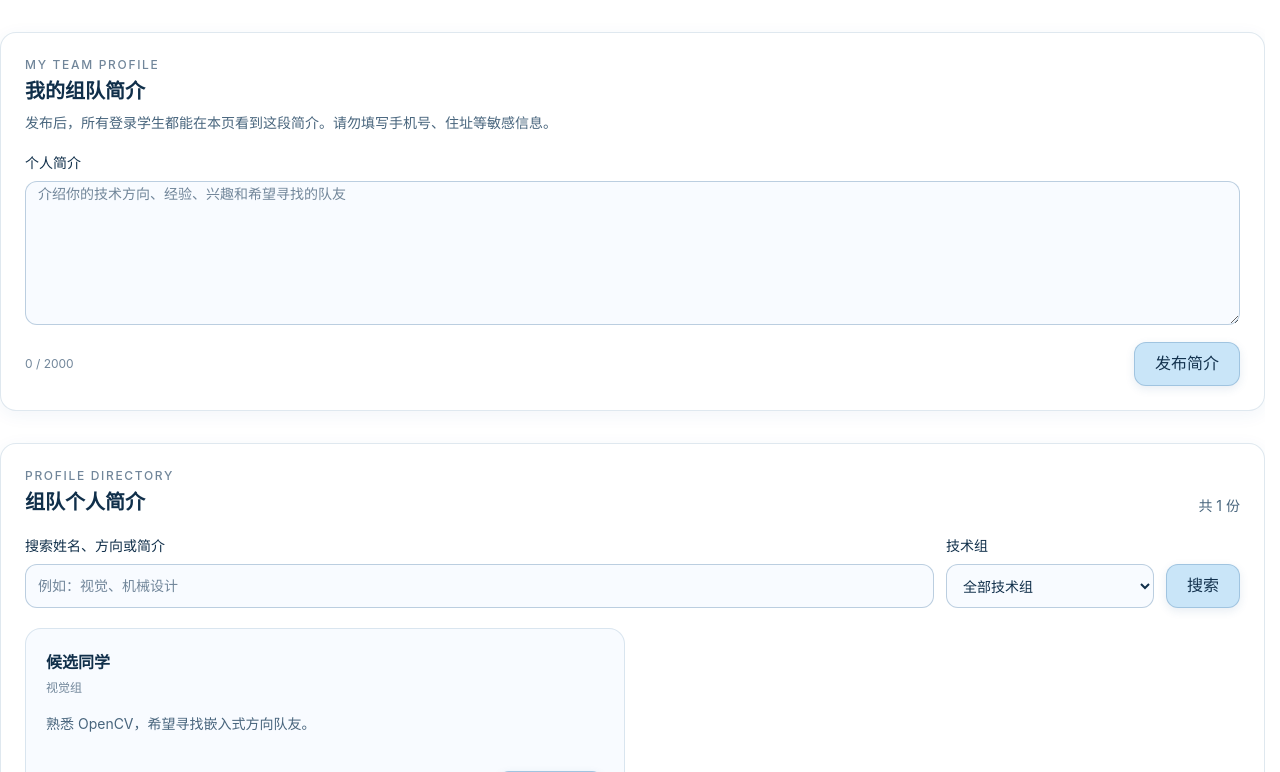
team profile invitations › publishes a voluntary profile without rendering HTML
Type "  我喜欢控制。  " into the text box labelled "个人简介".
click(632, 253); type("  我喜欢控制。  ")  # box x1=25 y1=181 x2=1240 y2=325
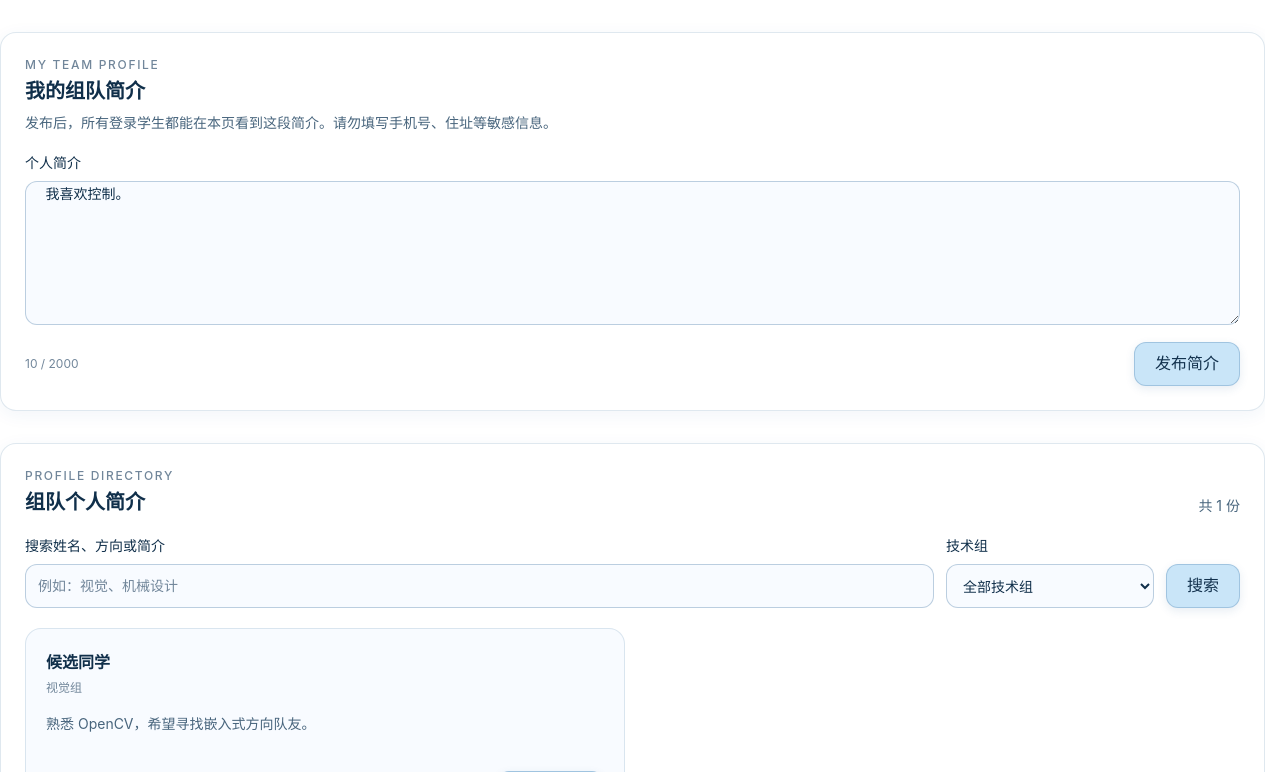
Click the button "发布简介".
click(1187, 364)  # box x1=1134 y1=342 x2=1240 y2=386
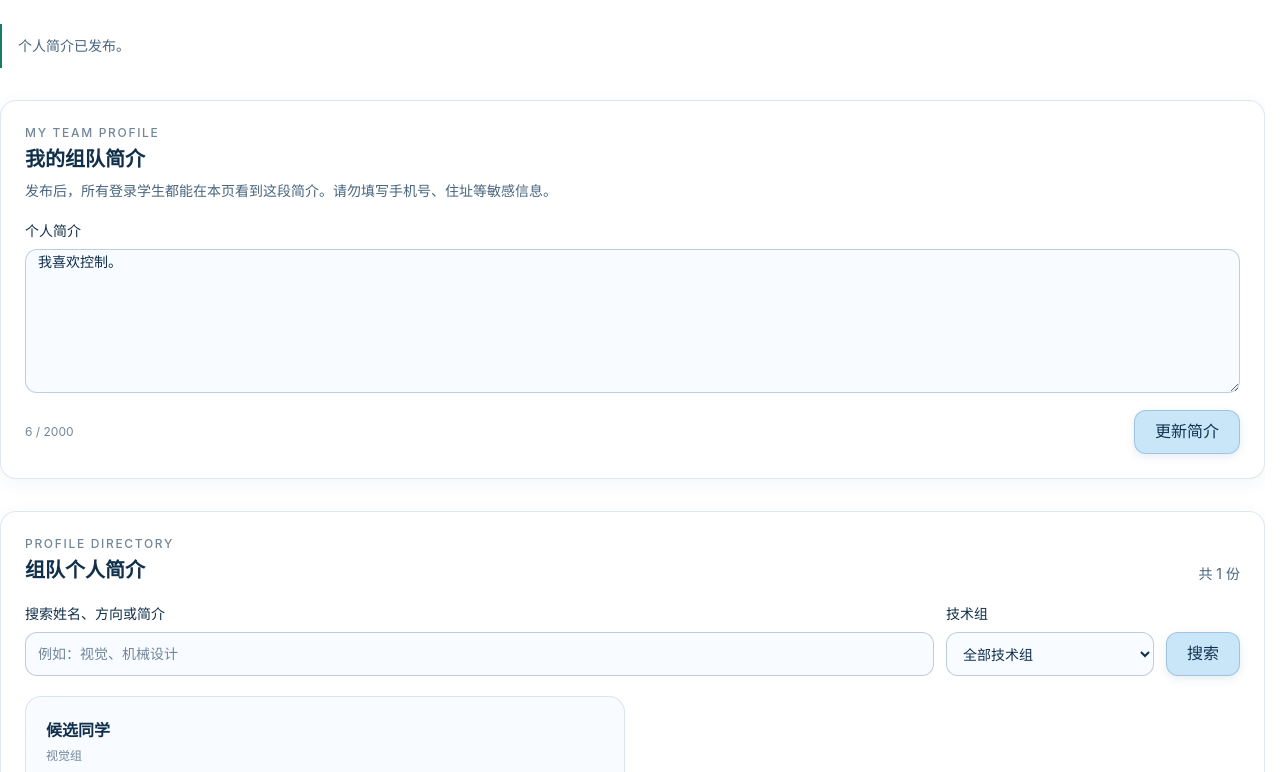
Now the text "个人简介已发布。" is shown, box x1=0 y1=24 x2=1265 y2=68
